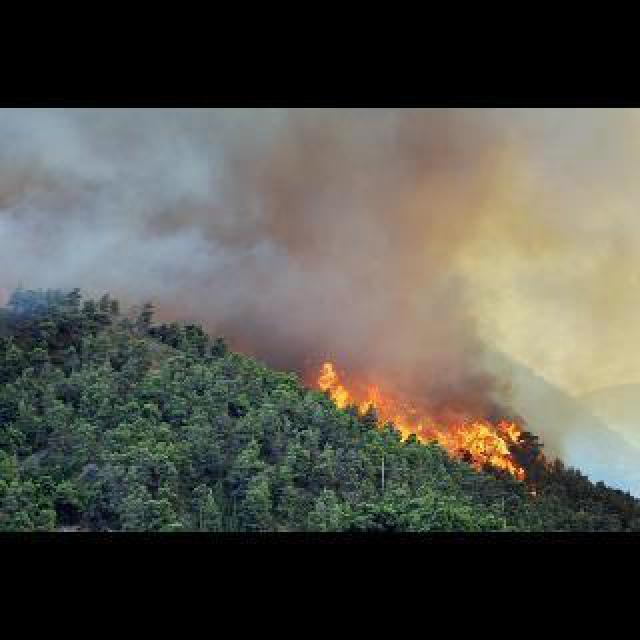Fire: (391, 410, 532, 474), (312, 360, 373, 424)
Smoke: (192, 106, 629, 388)
